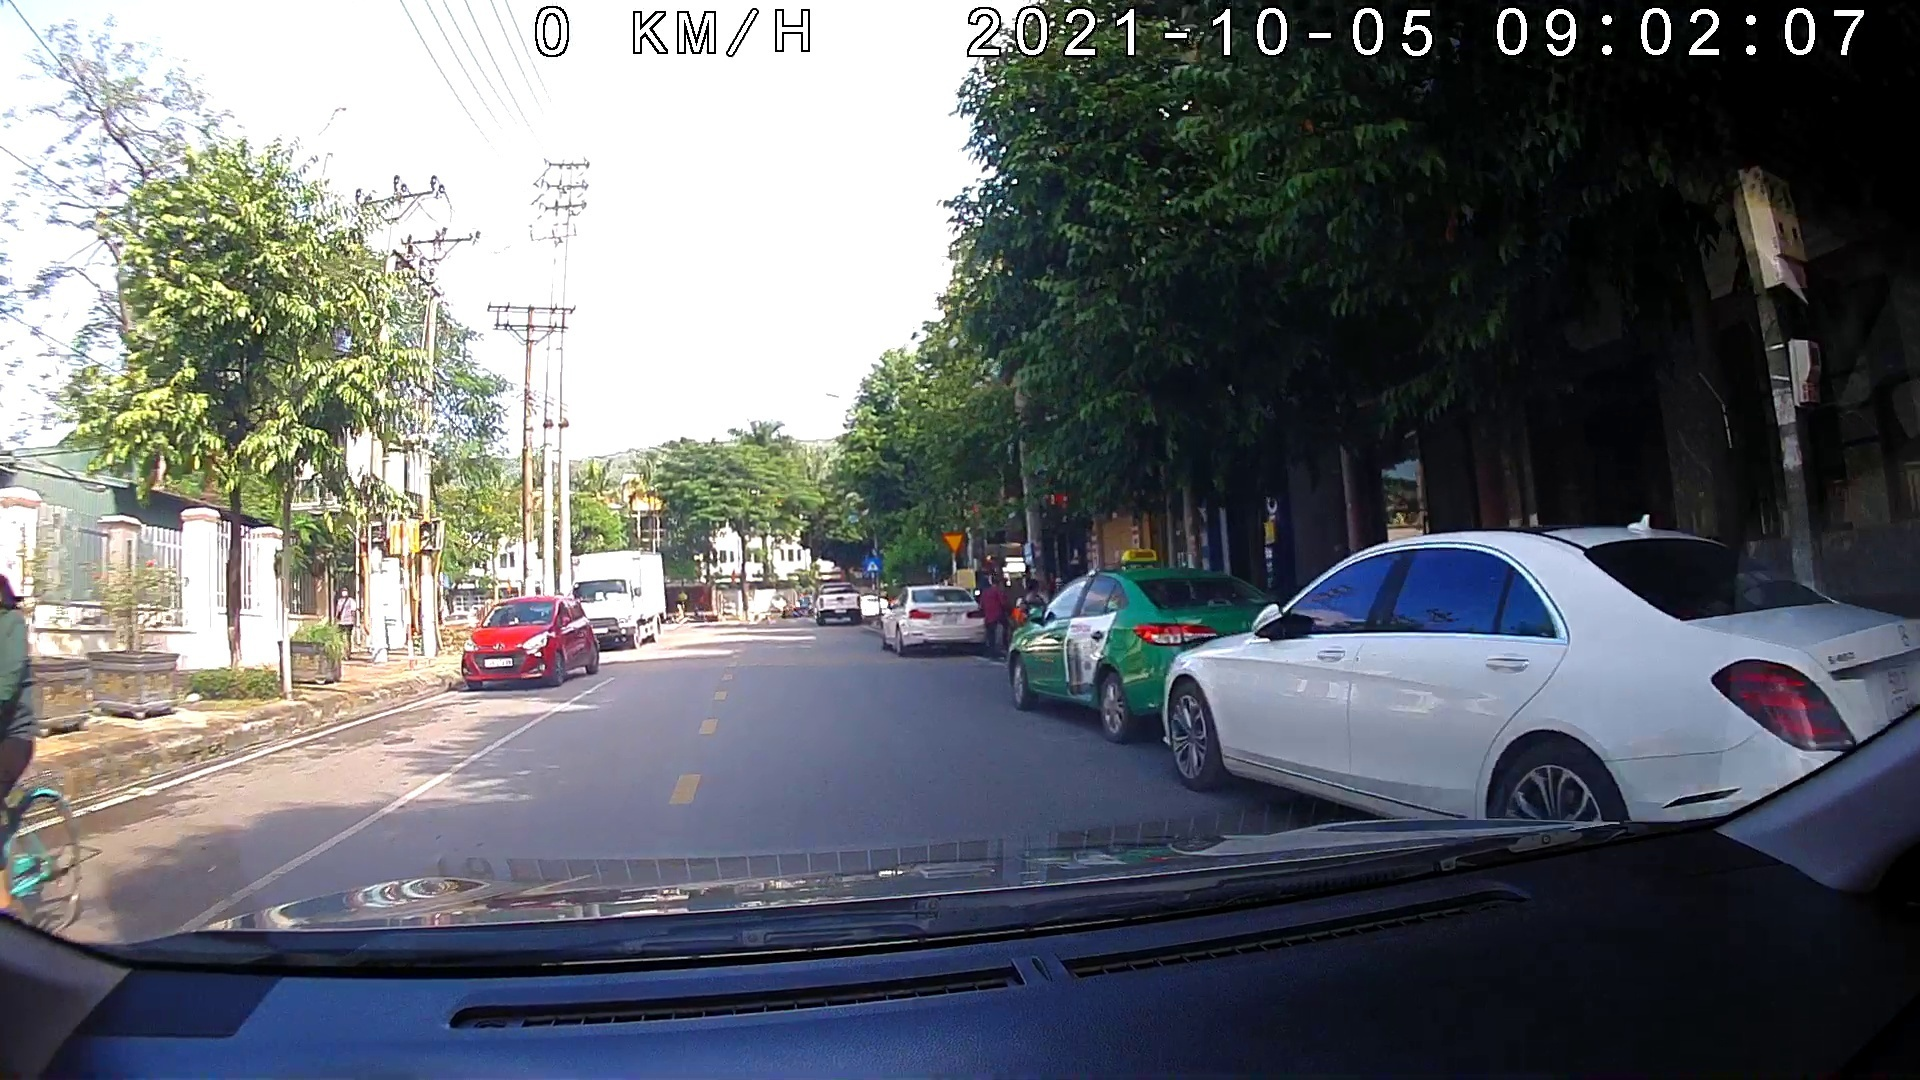Bien khac: (942, 531, 963, 553)
Nguoi di bo: (864, 556, 880, 572)
